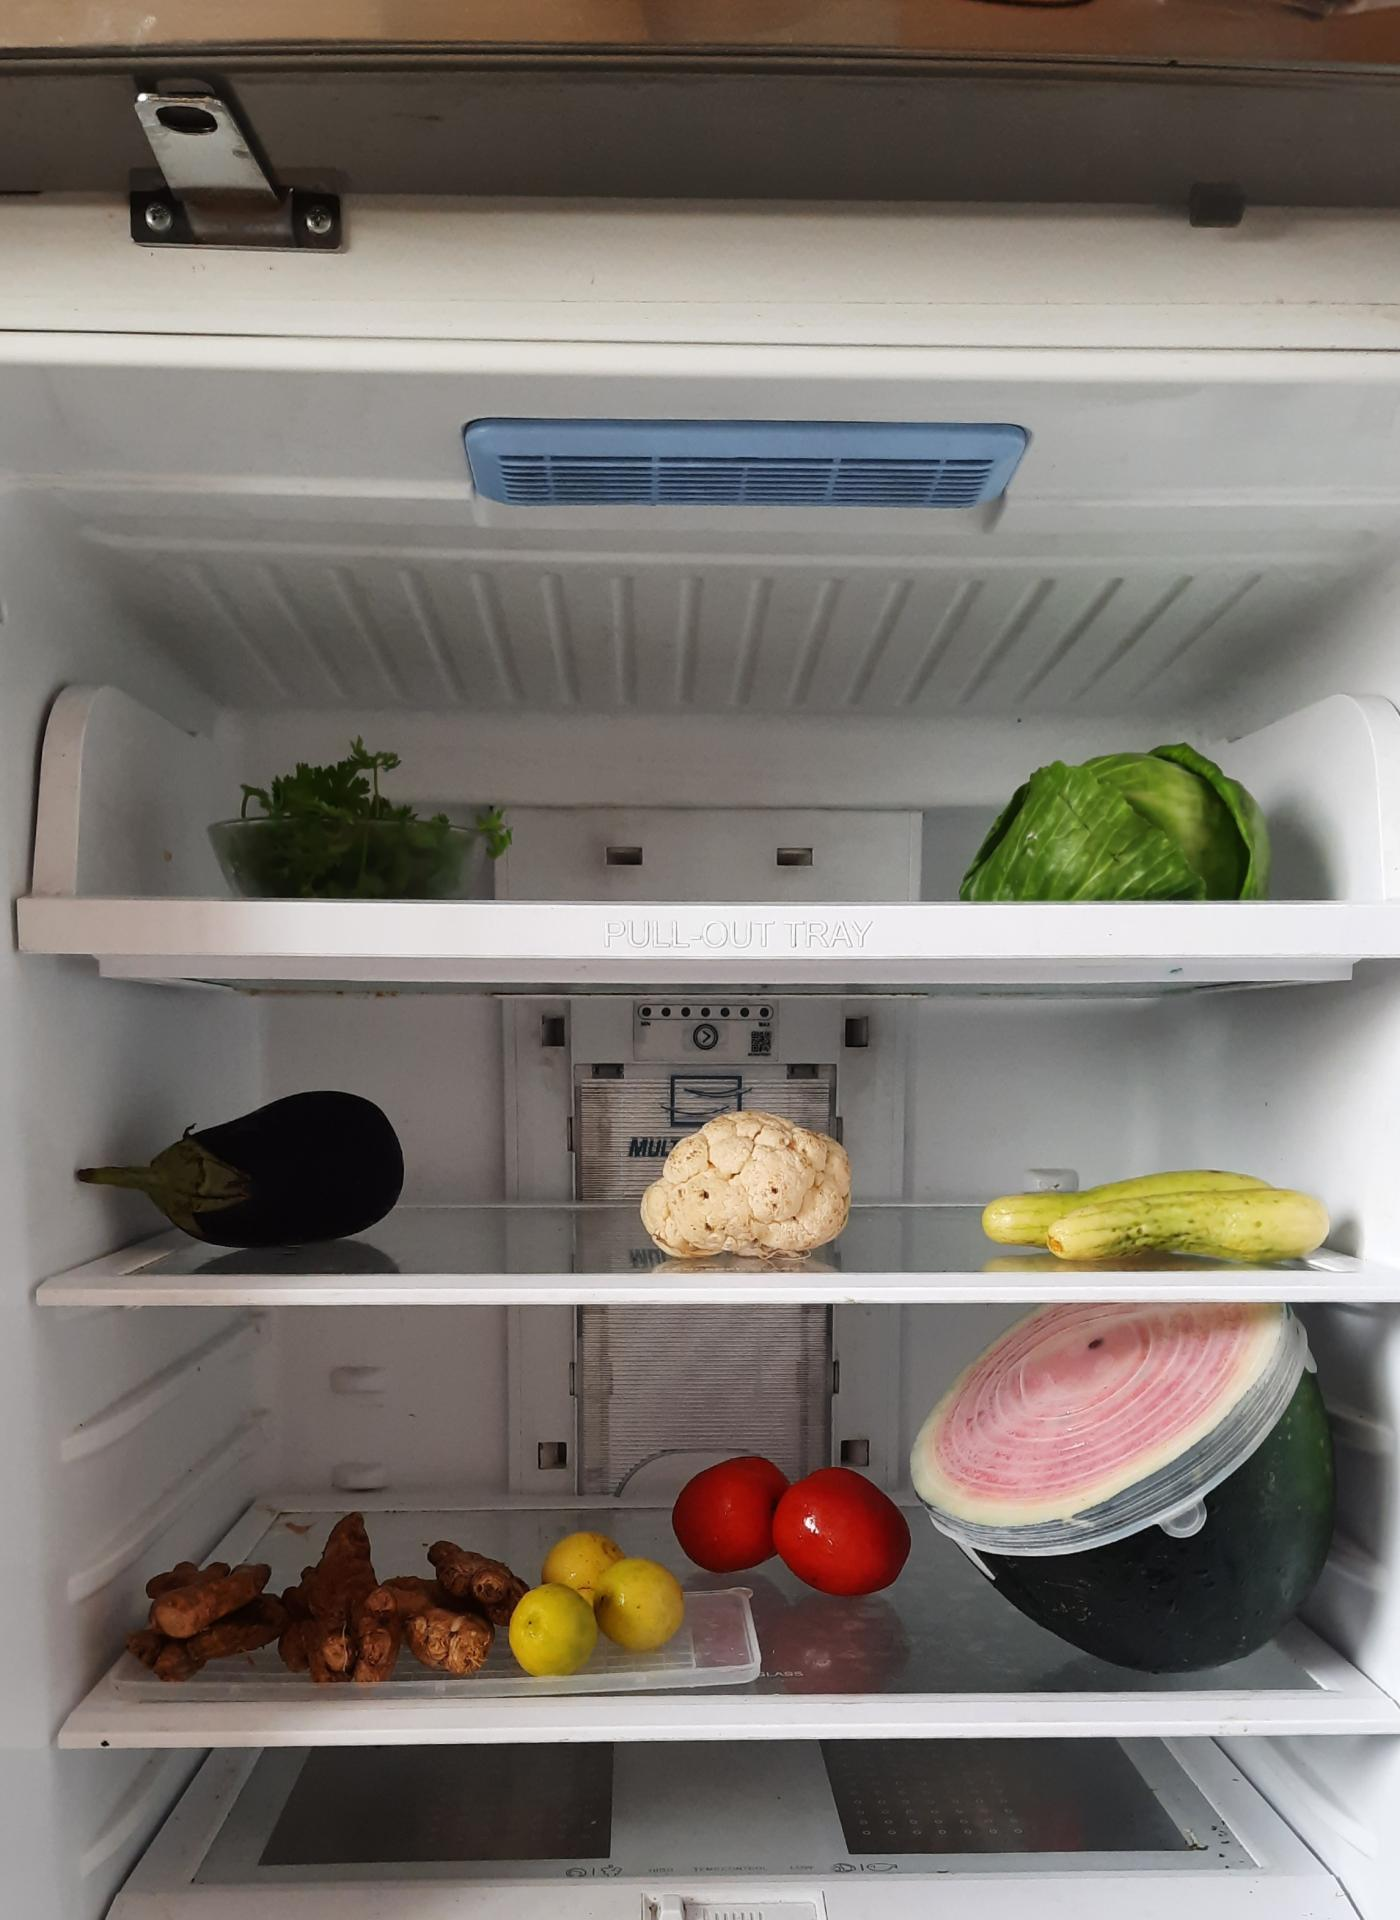brinjal: (75, 1091, 413, 1242)
cabbage: (960, 741, 1279, 903)
cauliflower: (643, 1105, 866, 1249)
coriander: (227, 735, 517, 899)
cucumber: (983, 1176, 1343, 1264)
ginger: (142, 1523, 519, 1683)
lemon: (516, 1526, 683, 1668)
tomato: (675, 1452, 912, 1591)
watermelon: (909, 1280, 1345, 1659)
